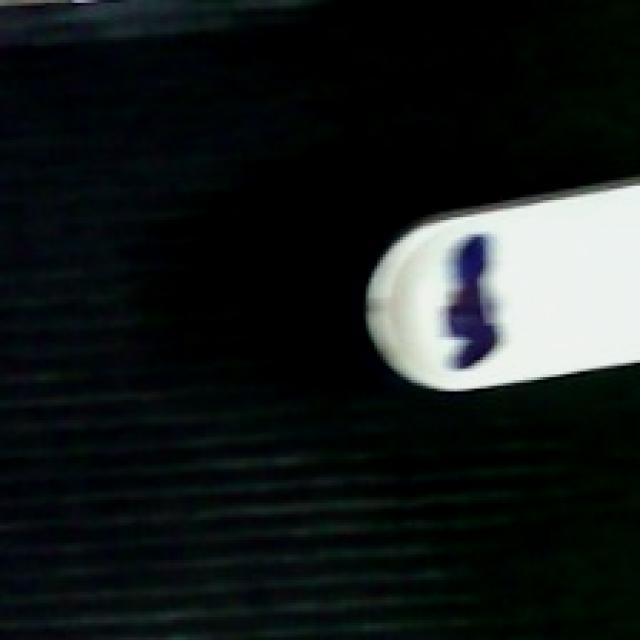defected: (360, 183, 637, 406)
